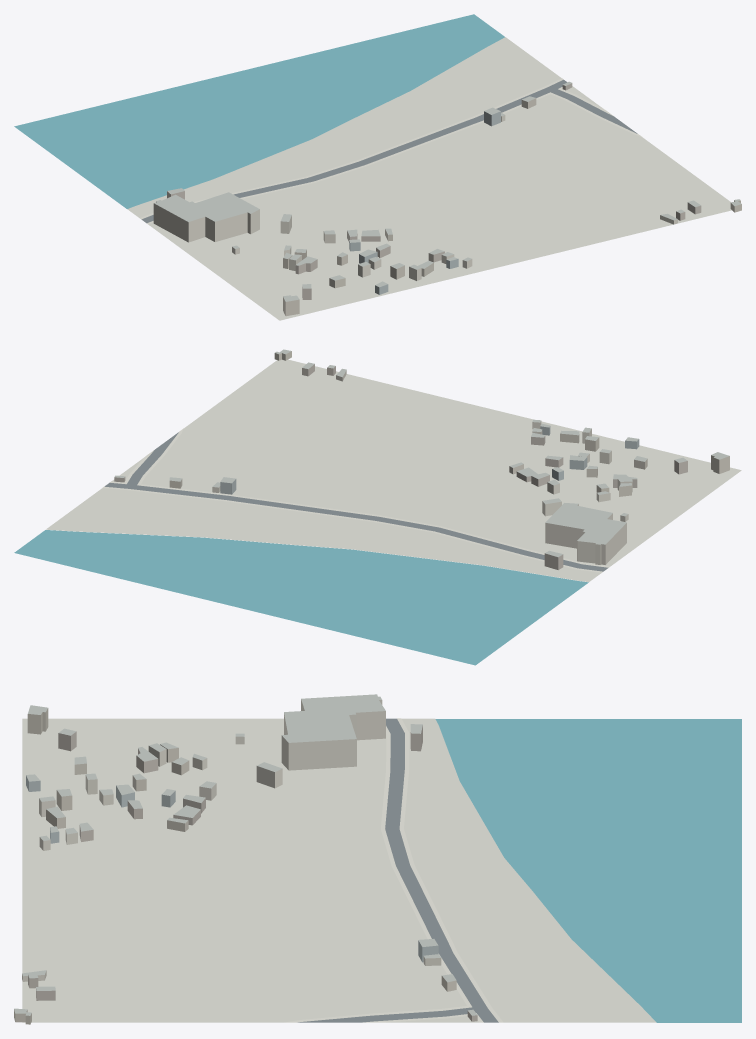
3 views of the same model, one above another, from view 1: azimuth 30°, elevation 25°; view 2: azimuth 150°, elevation 25°; view 3: azimuth 270°, elevation 25° (orthographic). The views are drawn at different scales.
Parts seen in each view (by area): view 1: city; view 2: city; view 3: city.
Boxes of the visible parts, left/top/right/bottom form: city: left=14, top=14, right=741, bottom=320; city: left=14, top=349, right=741, bottom=665; city: left=14, top=694, right=741, bottom=1024.
Bounding box in the file's own units: 503 × 21.38 × 506.
